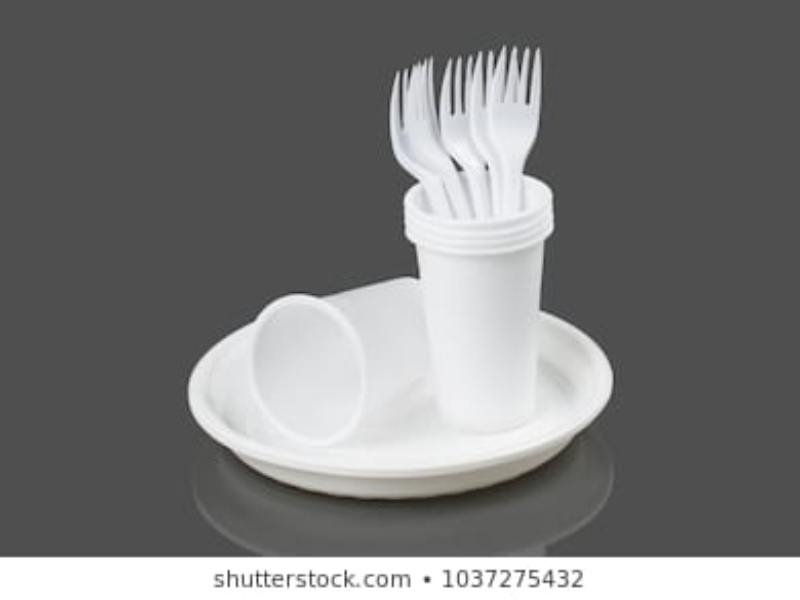plastic-cup: (398, 170, 568, 429), (248, 272, 442, 445)
plastic-plate: (187, 282, 622, 502)
plastic-silverware: (386, 60, 458, 216), (406, 56, 476, 212), (487, 40, 545, 214), (441, 49, 502, 211)
